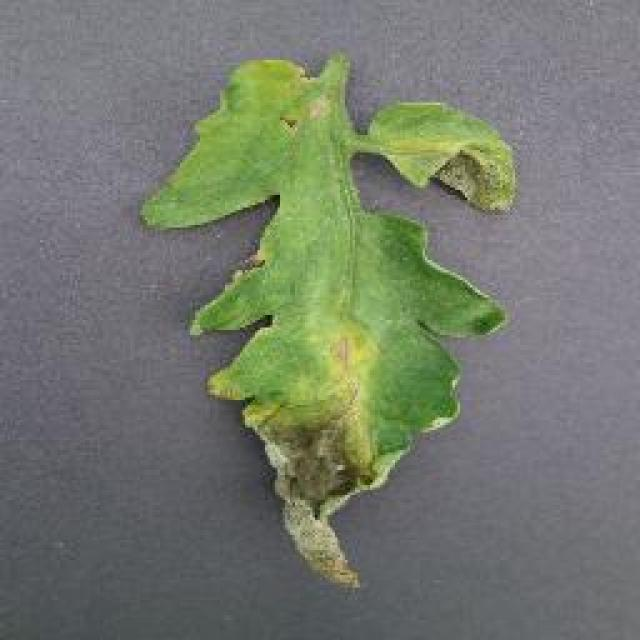Tomato Late Blight: (218, 300, 418, 578)
